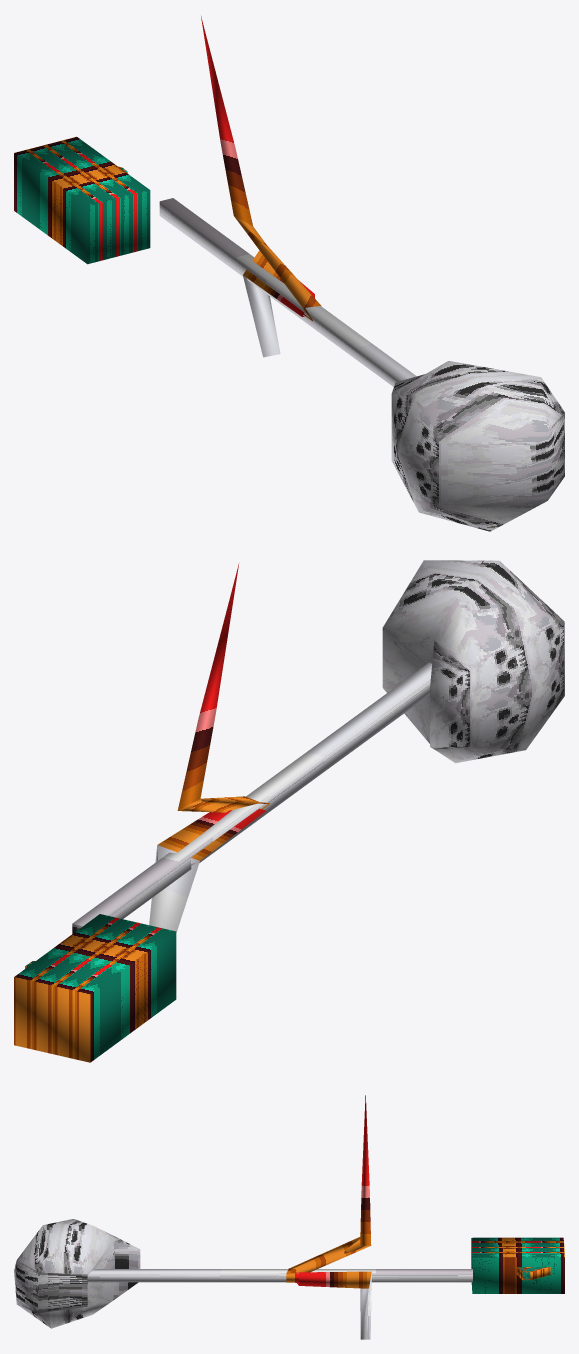
The model's file is 06_02_stick.gltf.
The picture shows the model from 3 angles, top to bottom: view 1: azimuth 30°, elevation 25°; view 2: azimuth 150°, elevation 25°; view 3: azimuth 270°, elevation 25°; orthographic projection. The views are drawn at different scales.
Visible parts, largest first — view 1: 06_02_stick; view 2: 06_02_stick; view 3: 06_02_stick.
Part boxes in pixels (x1,y1,x2,y2): 06_02_stick: [14, 16, 564, 531]; 06_02_stick: [14, 560, 564, 1062]; 06_02_stick: [14, 1095, 564, 1339].
Bounding box in the file's own units: 0.2463 × 0.6205 × 1.37.
Materials: 2 (2 with a texture image).
